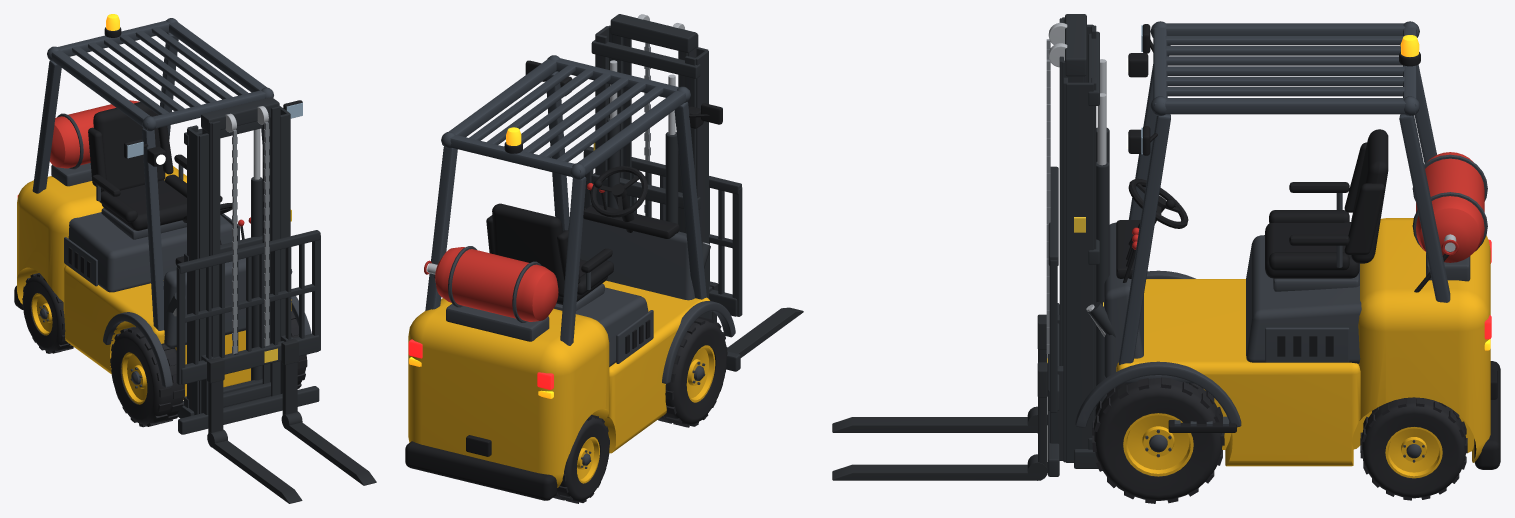
Rendered from forklift_counterbalance.glb.
3 views of the same model, side by side, from view 1: azimuth 30°, elevation 25°; view 2: azimuth 150°, elevation 25°; view 3: azimuth 270°, elevation 25° (orthographic). The views are drawn at different scales.
Parts seen in each view (by area): view 1: body_geo, fork_carriage_geo, mast_inner_geo, mast_outer_geo, wheel_FR_geo, fork_L_geo, fork_R_geo, wheel_RR_geo, wheel_FL_geo; view 2: body_geo, mast_outer_geo, wheel_FR_geo, fork_carriage_geo, mast_inner_geo, wheel_RR_geo, fork_R_geo; view 3: body_geo, mast_outer_geo, wheel_FL_geo, wheel_RL_geo, mast_inner_geo, fork_L_geo, fork_carriage_geo, fork_R_geo.
Part boxes in pixels (x1,y1,x2,y2): body_geo: [14, 18, 311, 400]; fork_carriage_geo: [176, 230, 320, 434]; mast_inner_geo: [201, 97, 280, 407]; mast_outer_geo: [166, 106, 292, 418]; wheel_FR_geo: [110, 326, 184, 427]; fork_L_geo: [281, 339, 376, 485]; fork_R_geo: [207, 357, 302, 503]; wheel_RR_geo: [22, 273, 73, 353]; wheel_FL_geo: [291, 310, 307, 388]; body_geo: [405, 55, 735, 500]; mast_outer_geo: [591, 25, 710, 318]; wheel_FR_geo: [658, 317, 727, 427]; fork_carriage_geo: [583, 146, 742, 371]; mast_inner_geo: [610, 14, 698, 232]; wheel_RR_geo: [553, 414, 609, 503]; fork_R_geo: [710, 281, 803, 357]; body_geo: [1075, 21, 1500, 469]; mast_outer_geo: [1063, 24, 1115, 468]; wheel_FL_geo: [1092, 377, 1224, 503]; wheel_RL_geo: [1360, 397, 1467, 500]; mast_inner_geo: [1046, 14, 1086, 365]; fork_L_geo: [832, 362, 1047, 480]; fork_carriage_geo: [1047, 166, 1063, 476]; fork_R_geo: [832, 314, 1047, 433].
Size of the model in its own units: 1.34 by 2.32 by 3.32.
2 materials, 2 textured.
